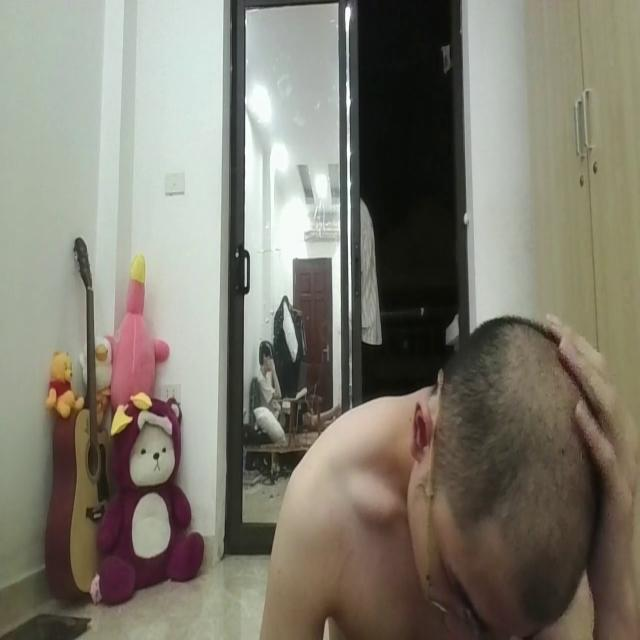extra_person: (358, 158, 386, 389), (246, 329, 301, 434)
student: (238, 312, 635, 640)
